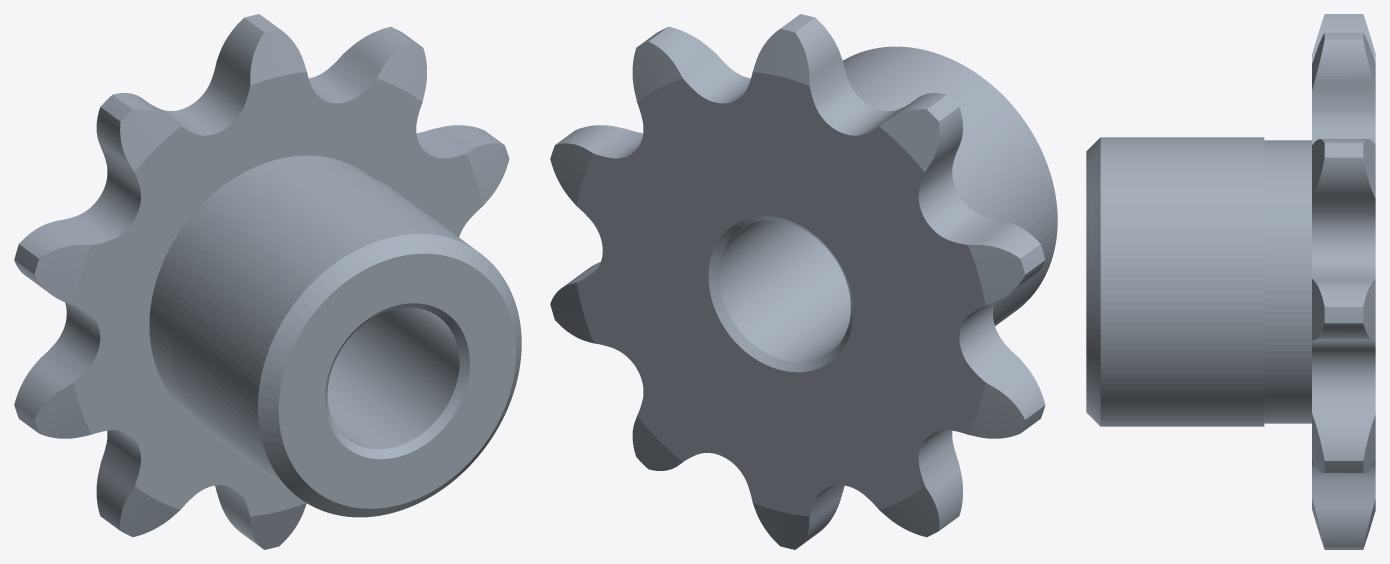
File: reference.glb
3 views of the same model, side by side, from view 1: azimuth 30°, elevation 25°; view 2: azimuth 150°, elevation 25°; view 3: azimuth 270°, elevation 25° (orthographic). The views are drawn at different scales.
Parts seen in each view (by area): view 1: reference.tmp.stl; view 2: reference.tmp.stl; view 3: reference.tmp.stl.
Boxes of the visible parts, bbox=[...] form: reference.tmp.stl: bbox=[14, 14, 521, 549]; reference.tmp.stl: bbox=[550, 14, 1057, 549]; reference.tmp.stl: bbox=[1086, 14, 1375, 549].
Size of the model in its own units: 22.86 by 23.81 by 12.7.
